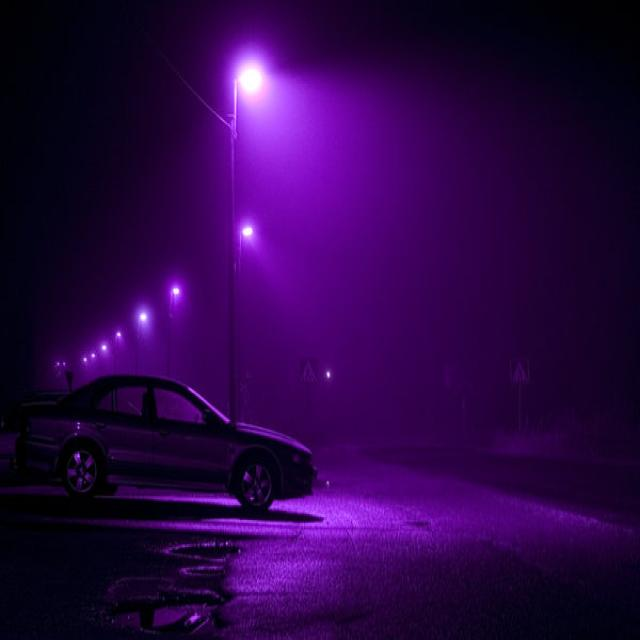Car: (15, 374, 316, 515)
